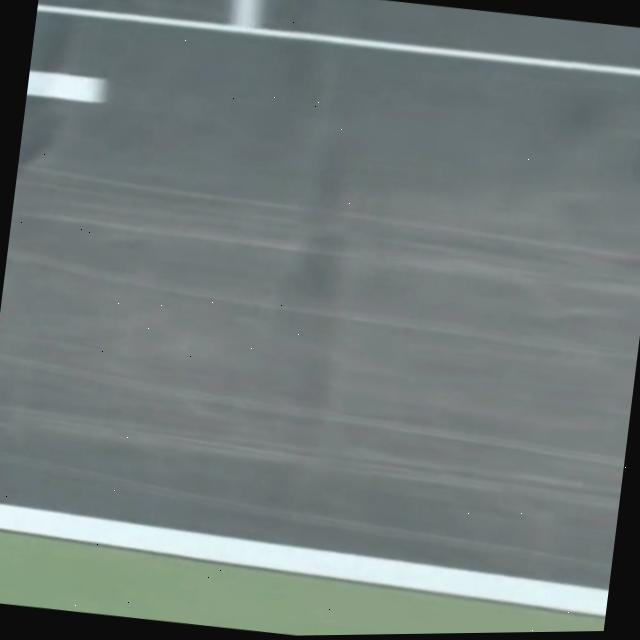center: (25, 70, 104, 102)
right: (0, 502, 608, 615)
